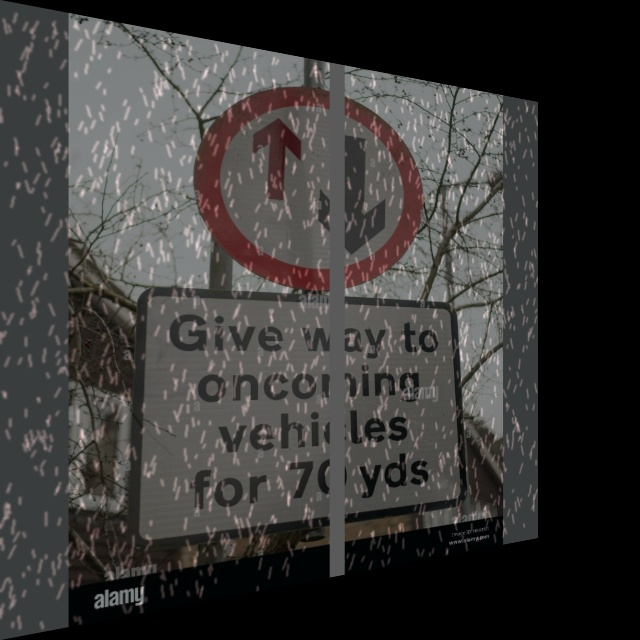Priority_for_Oncoming_Traffic: (195, 67, 424, 290)
